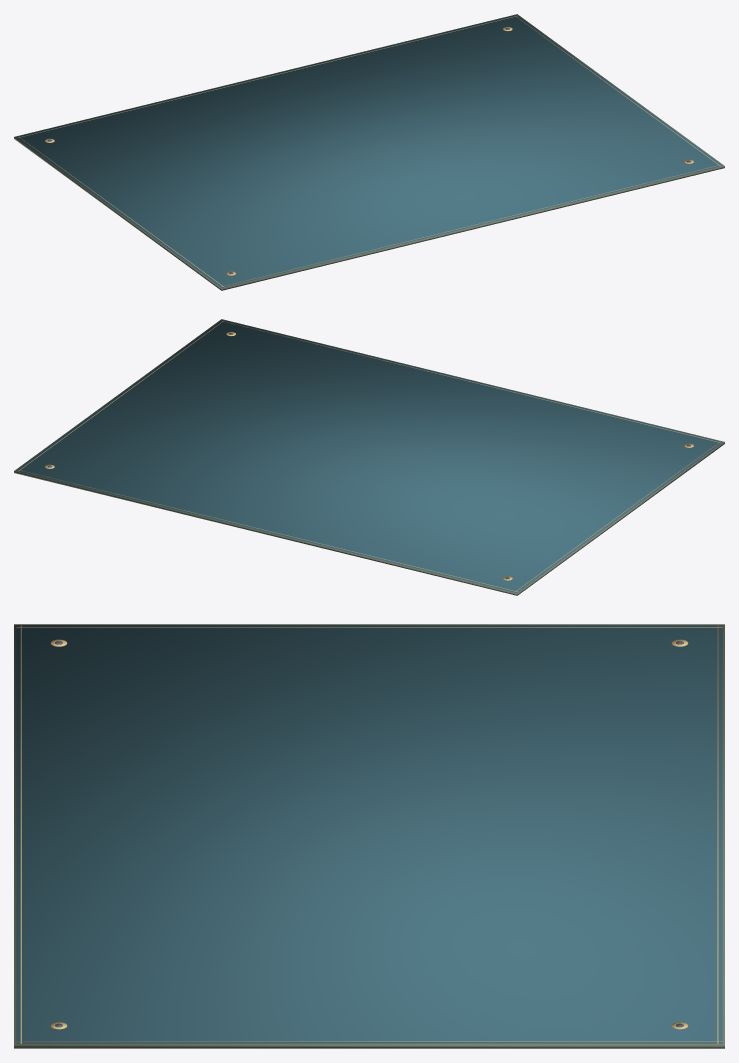
The model's file is 197_L115_PCB_Main.glb.
3 views of the same model, one above another, from view 1: azimuth 30°, elevation 25°; view 2: azimuth 150°, elevation 25°; view 3: azimuth 270°, elevation 25° (orthographic). The views are drawn at different scales.
Parts seen in each view (by area): view 1: 197_L115_PCB_Main_1_Mask_Midnight, 197_L115_PCB_Main_0_FR4_Core, 197_L115_PCB_Main_2_Gold_ENIG; view 2: 197_L115_PCB_Main_1_Mask_Midnight, 197_L115_PCB_Main_0_FR4_Core, 197_L115_PCB_Main_2_Gold_ENIG; view 3: 197_L115_PCB_Main_1_Mask_Midnight, 197_L115_PCB_Main_0_FR4_Core, 197_L115_PCB_Main_2_Gold_ENIG.
Part boxes in pixels (x1,y1,x2,y2): 197_L115_PCB_Main_1_Mask_Midnight: [16, 15, 722, 287]; 197_L115_PCB_Main_0_FR4_Core: [14, 14, 724, 290]; 197_L115_PCB_Main_2_Gold_ENIG: [17, 15, 721, 287]; 197_L115_PCB_Main_1_Mask_Midnight: [16, 320, 722, 592]; 197_L115_PCB_Main_0_FR4_Core: [14, 319, 724, 595]; 197_L115_PCB_Main_2_Gold_ENIG: [17, 320, 721, 592]; 197_L115_PCB_Main_1_Mask_Midnight: [16, 625, 722, 1043]; 197_L115_PCB_Main_0_FR4_Core: [14, 624, 724, 1048]; 197_L115_PCB_Main_2_Gold_ENIG: [16, 625, 722, 1043].
Bounding box in the file's own units: 0.42 × 0.00188 × 0.3.
